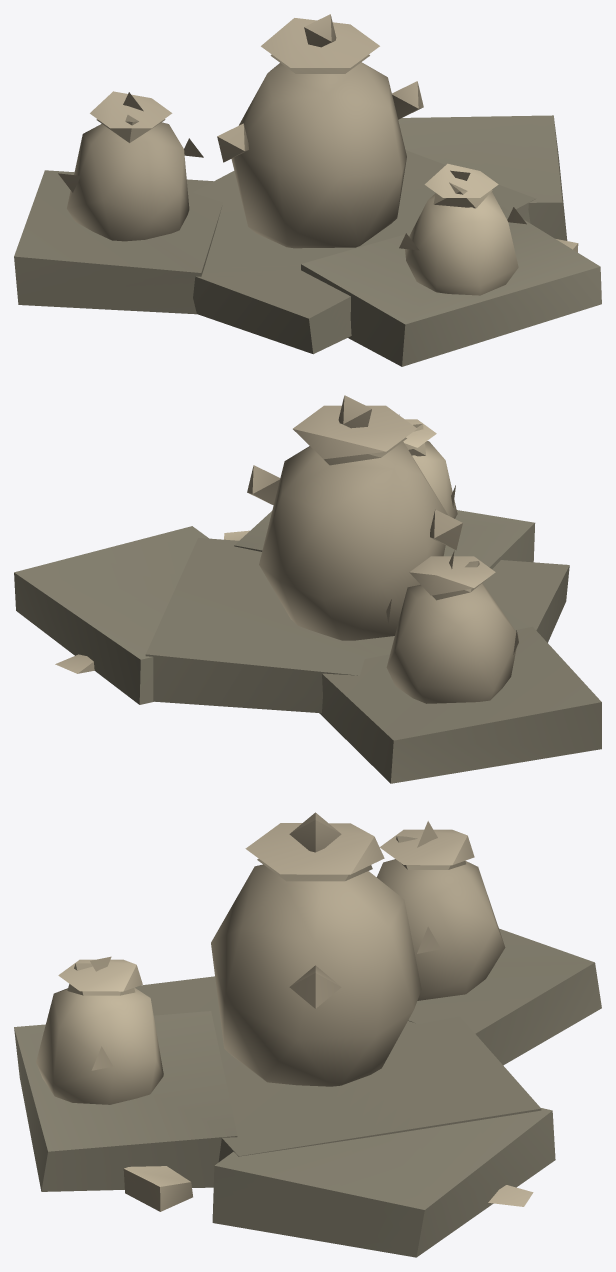
File: granary_jars_b_lod2.glb
3 renders of one model, top to bottom at view 1: azimuth 30°, elevation 25°; view 2: azimuth 150°, elevation 25°; view 3: azimuth 270°, elevation 25°, orthographic. The views are drawn at different scales.
Visible parts, largest first — view 1: Surface.001; view 2: Surface.001; view 3: Surface.001.
Boxes of the visible parts, x1,y1,x2,y2 form: Surface.001: [14, 14, 601, 366]; Surface.001: [14, 395, 601, 783]; Surface.001: [14, 812, 601, 1257].
Bounding box in the file's own units: 3.32 × 1.43 × 2.61.
